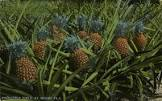Pineapple: (12, 42, 39, 82), (64, 37, 89, 70), (115, 22, 129, 59)
